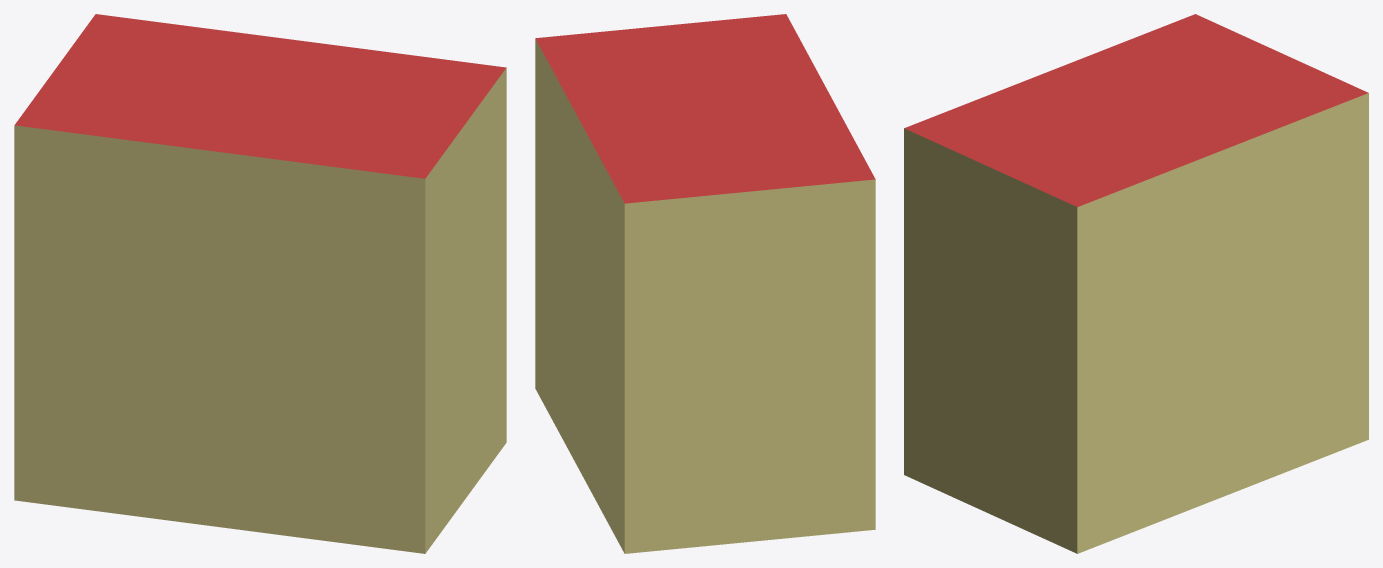
3 views of the same model, side by side, from view 1: azimuth 30°, elevation 25°; view 2: azimuth 150°, elevation 25°; view 3: azimuth 270°, elevation 25° (orthographic). The views are drawn at different scales.
Bounding box in the file's own units: 7.88 × 8 × 6.59.
